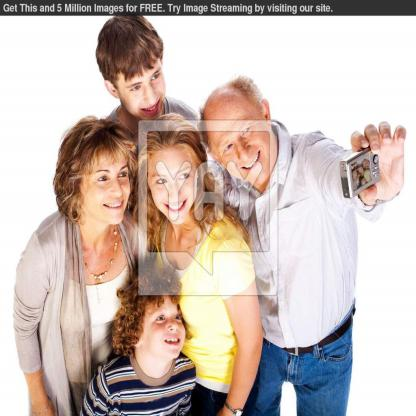face: (206, 102, 269, 188), (86, 145, 130, 226), (151, 148, 195, 228), (123, 50, 166, 124)
